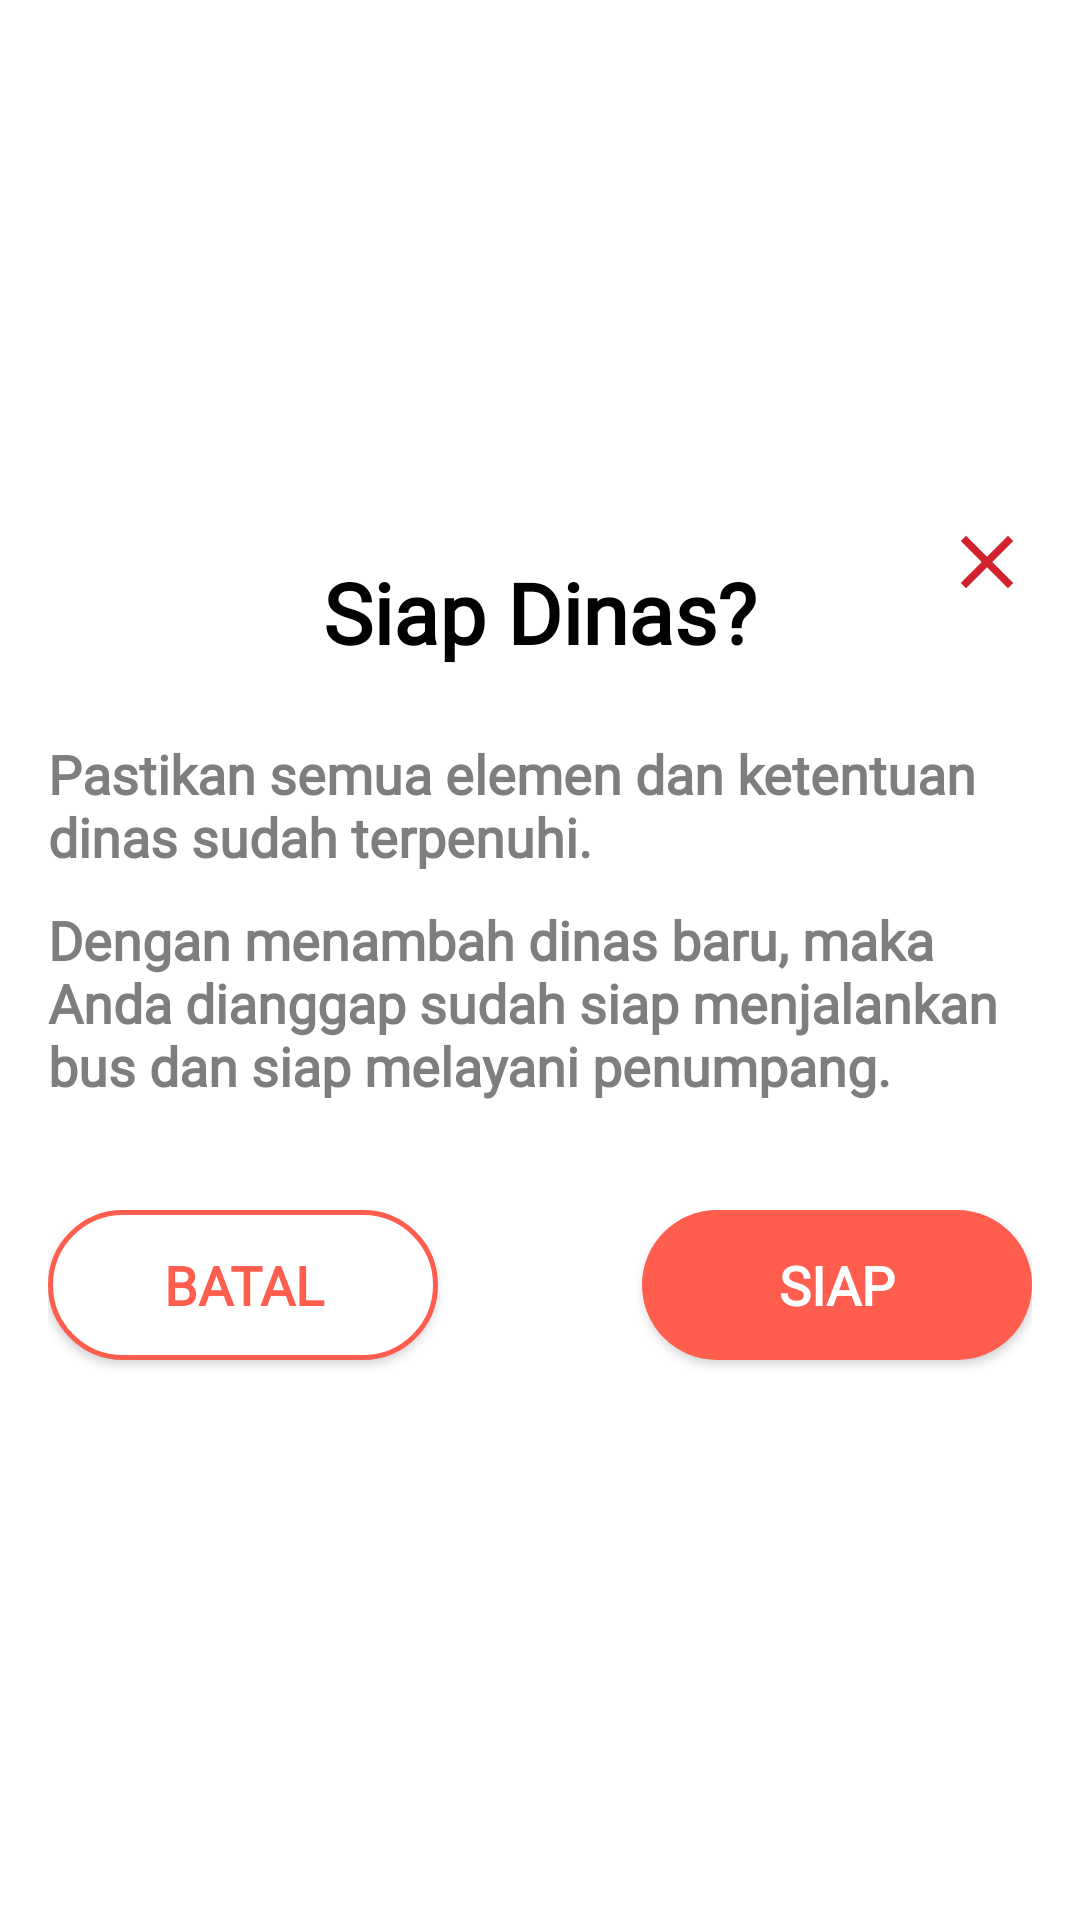

Point at icon controls on the screen. Image size 1080*1920, points as (x,y).
close: (987,562)
